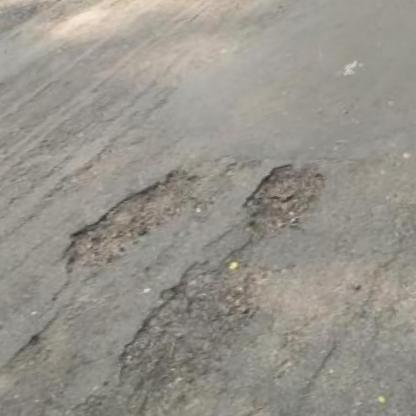pothole: (96, 250, 281, 403), (45, 161, 219, 276), (232, 152, 339, 244)
